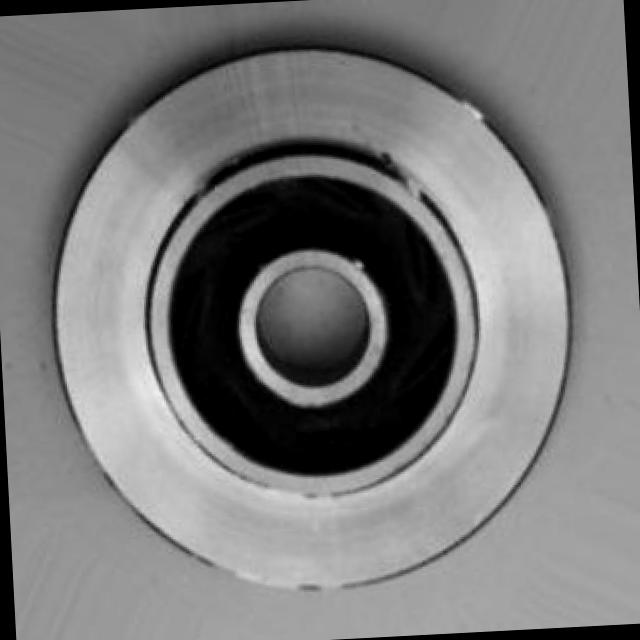Defect: (380, 138, 440, 216)
